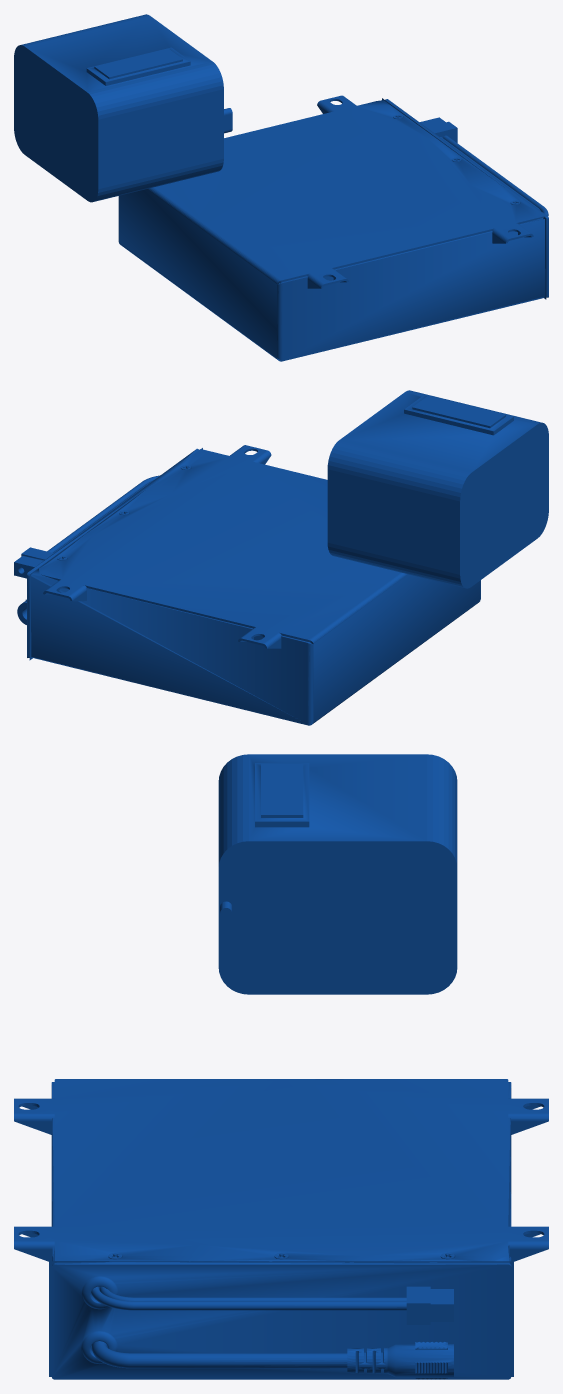
Rendered from base_link_battery.dae.
3 views of the same model, one above another, from view 1: azimuth 30°, elevation 25°; view 2: azimuth 150°, elevation 25°; view 3: azimuth 270°, elevation 25° (orthographic). The views are drawn at different scales.
Visible parts, largest first — view 1: node; view 2: node; view 3: node.
Part boxes in pixels (box(x1,y1,x2,y2)): node: box(14, 14, 548, 361); node: box(14, 390, 548, 725); node: box(14, 754, 548, 1379).
Bounding box in the file's own units: 0.2303 × 0.177 × 0.1324.
